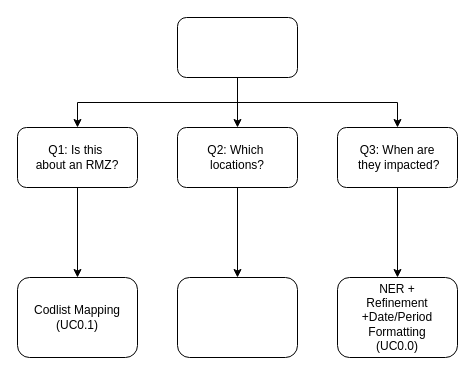
The diagram is 475 pixels wide and 375 high, and some of its shapes have lost their labels. Here are the shapes that lost their labels. From the top down, the centre of each, then its label:
At pixel 237 47: "Decision Text".
At pixel 237 317: "NER + Refinement +Location Formatting + Linking (UC0.0)".
